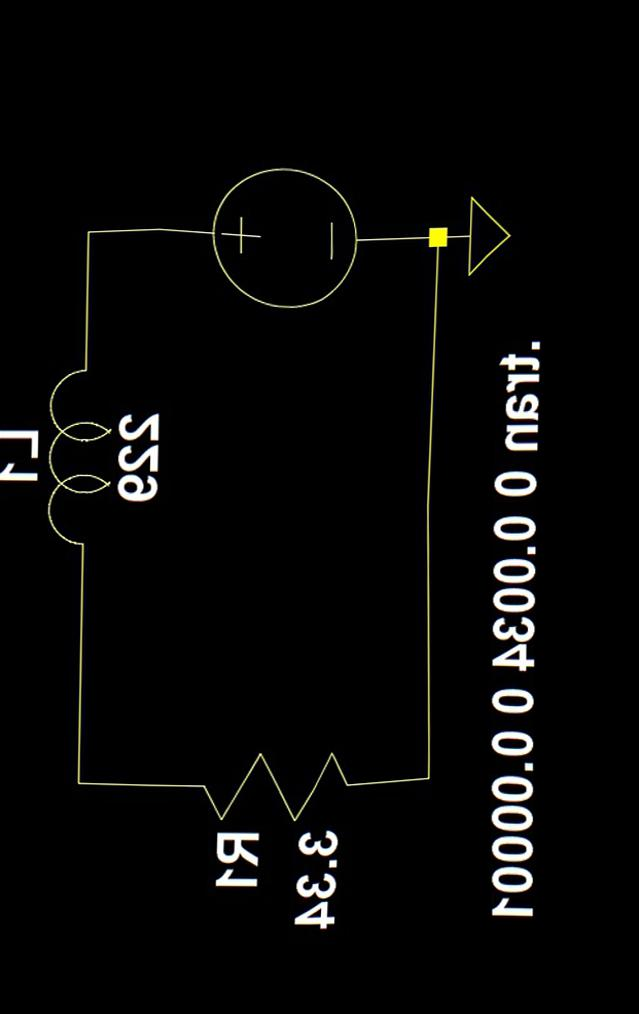Battery: (170, 124, 390, 351)
